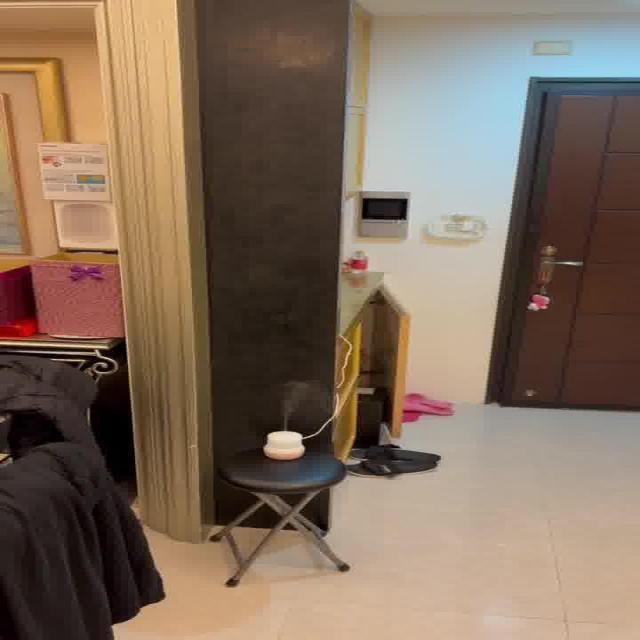fire: (271, 378, 318, 424)
